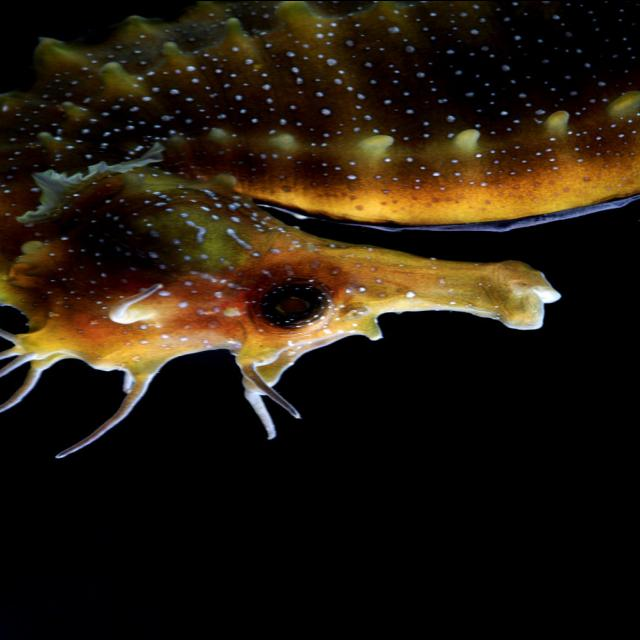Guttu: (1, 158, 570, 390)
